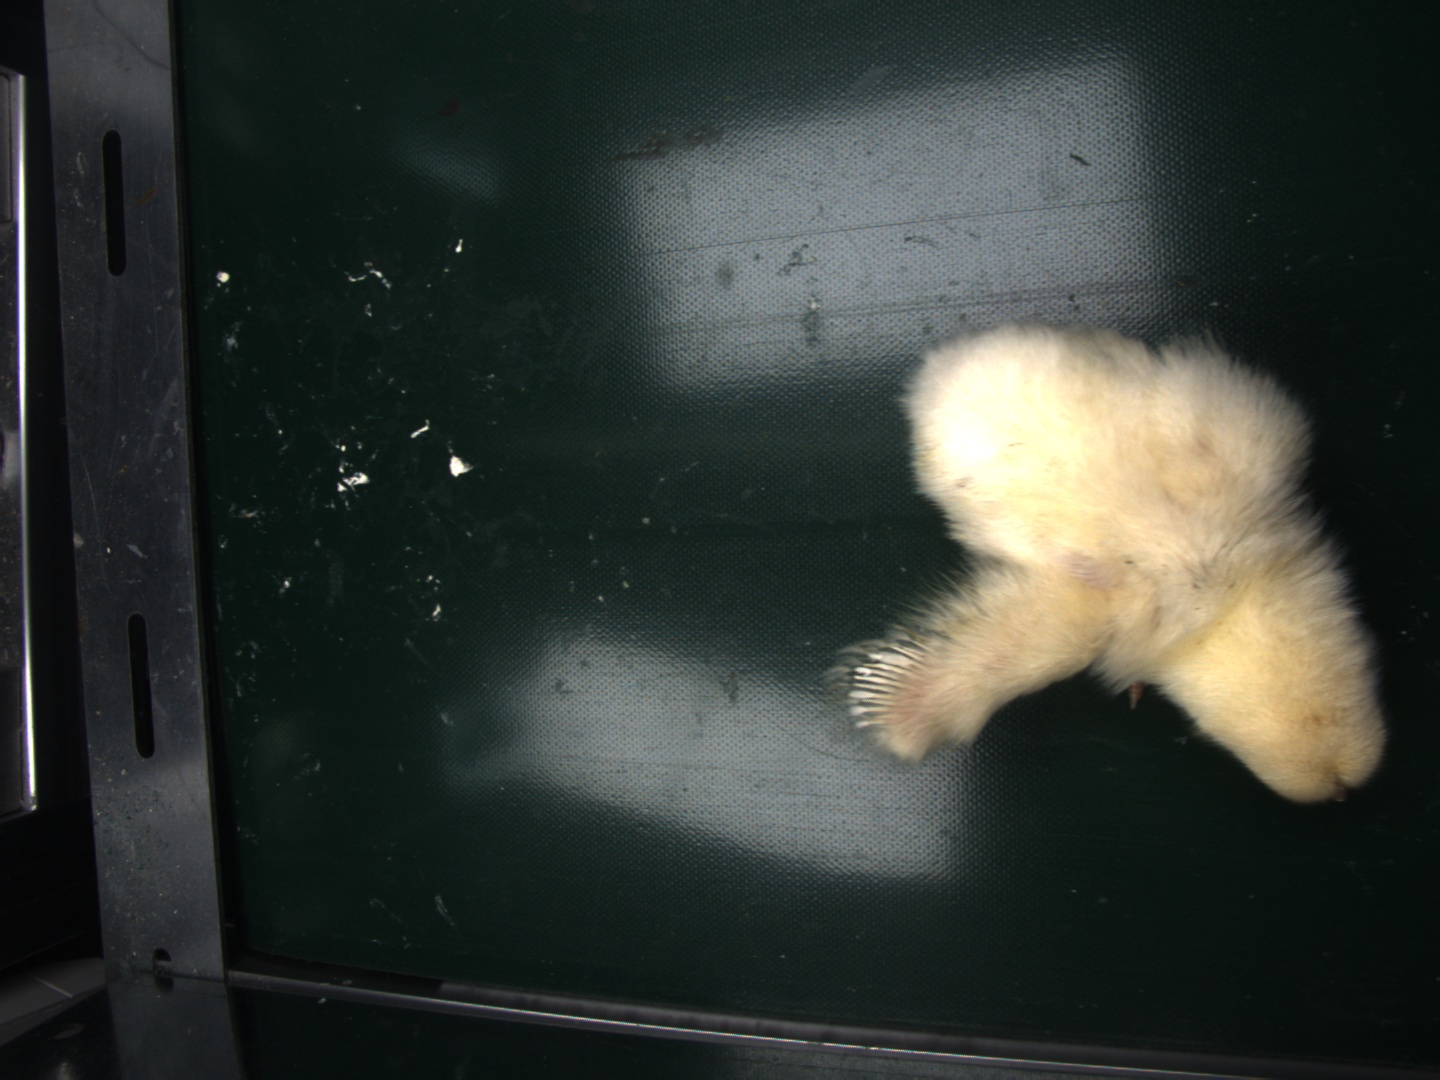male: (845, 646, 910, 736)
